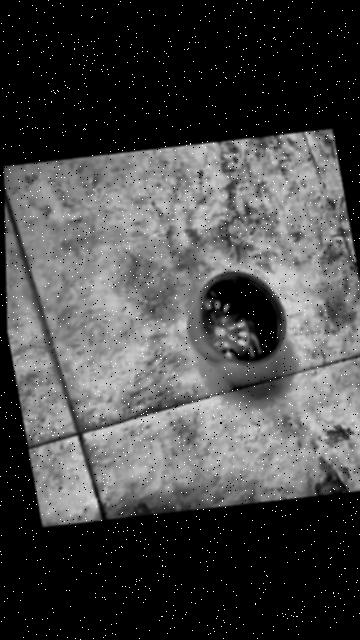pot: (179, 262, 294, 376)
